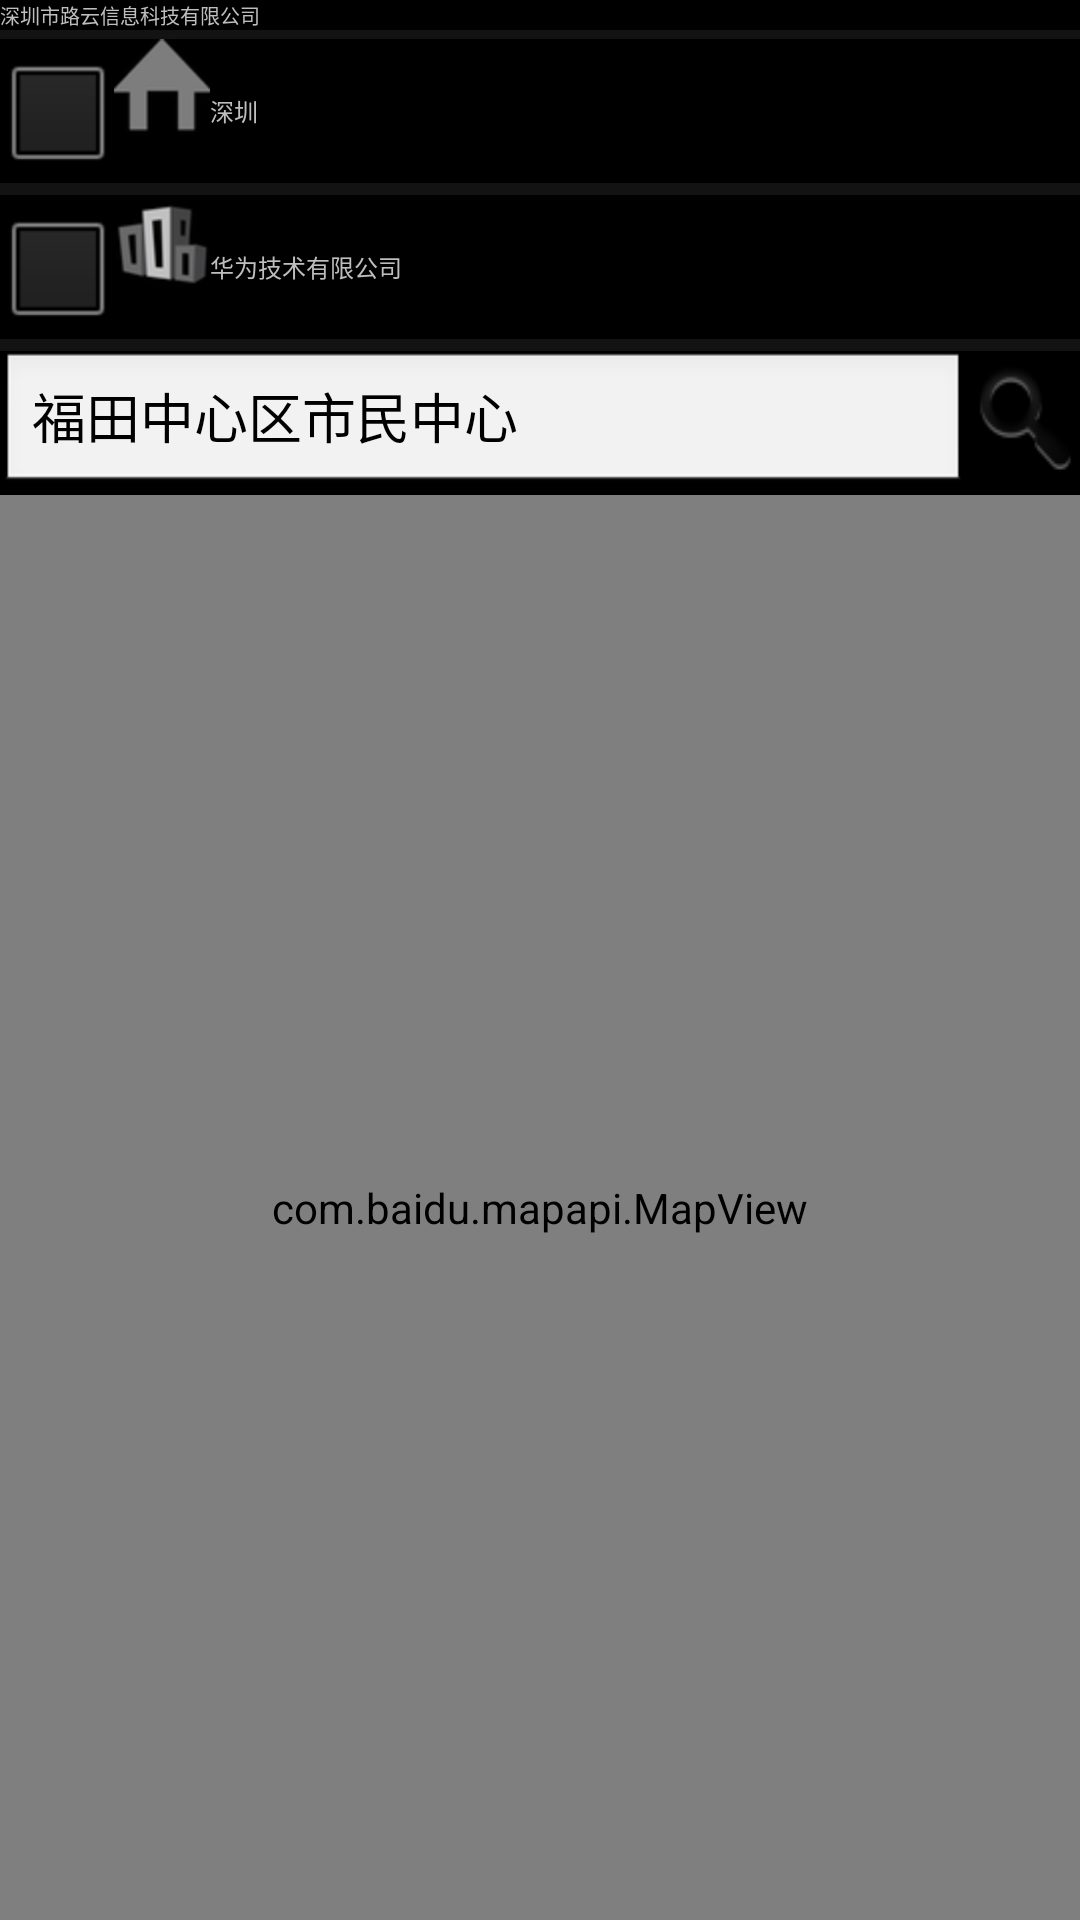

Where to tap for icons on this 1080x1920 app screen, as (x,y):
search: (1025,423)
